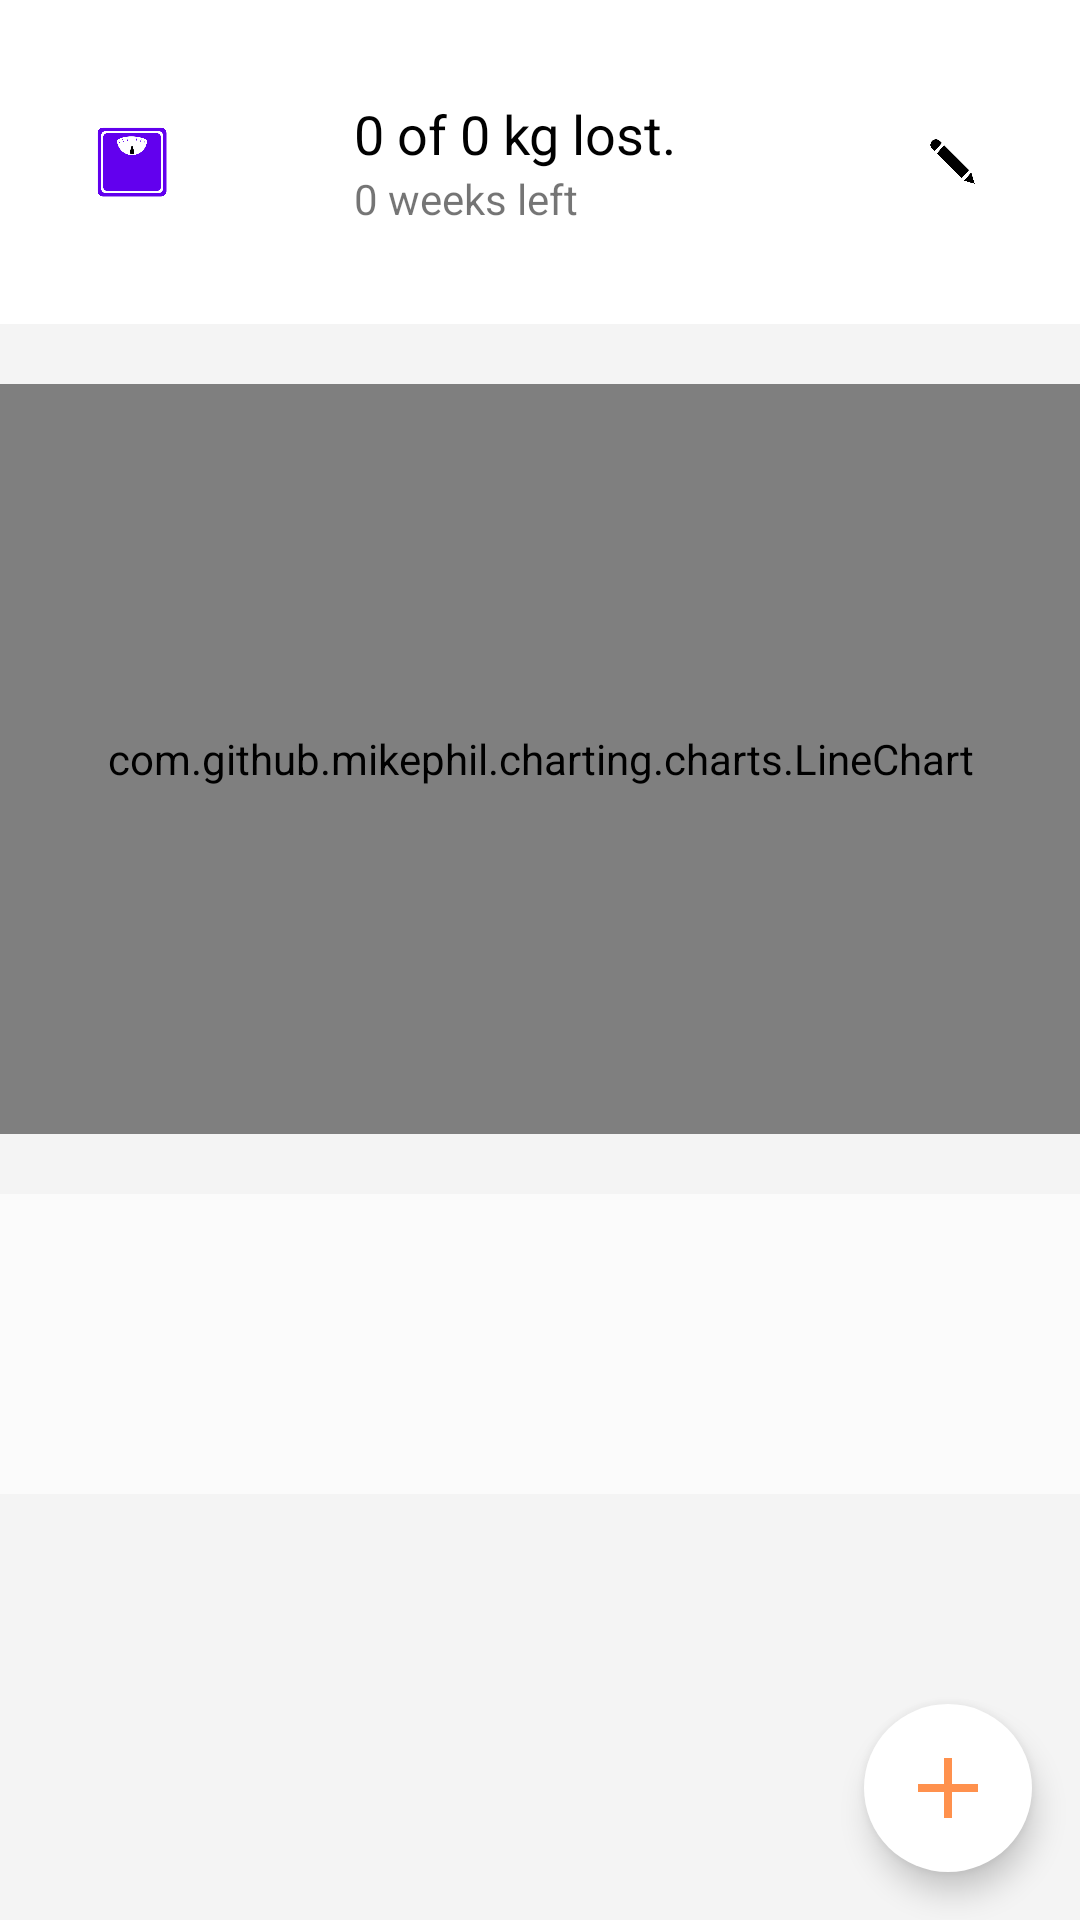

Screen size 1080w x 1920h. Icon name, then its box in pixels as [x1=x1, y1=y1, x2=x2, y2=y2]:
pen: [x1=930, y1=139, x2=975, y2=184]
plusicon: [x1=864, y1=1704, x2=1032, y2=1872]
weight: [x1=98, y1=128, x2=167, y2=197]
